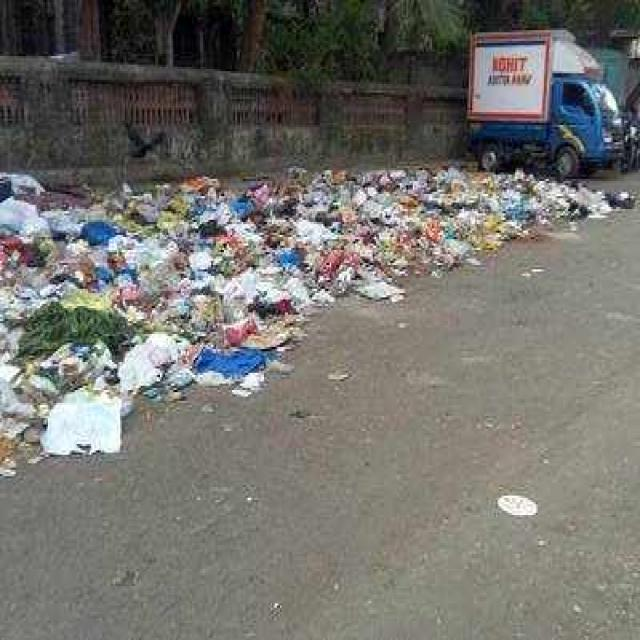garbage: (0, 139, 640, 485)
